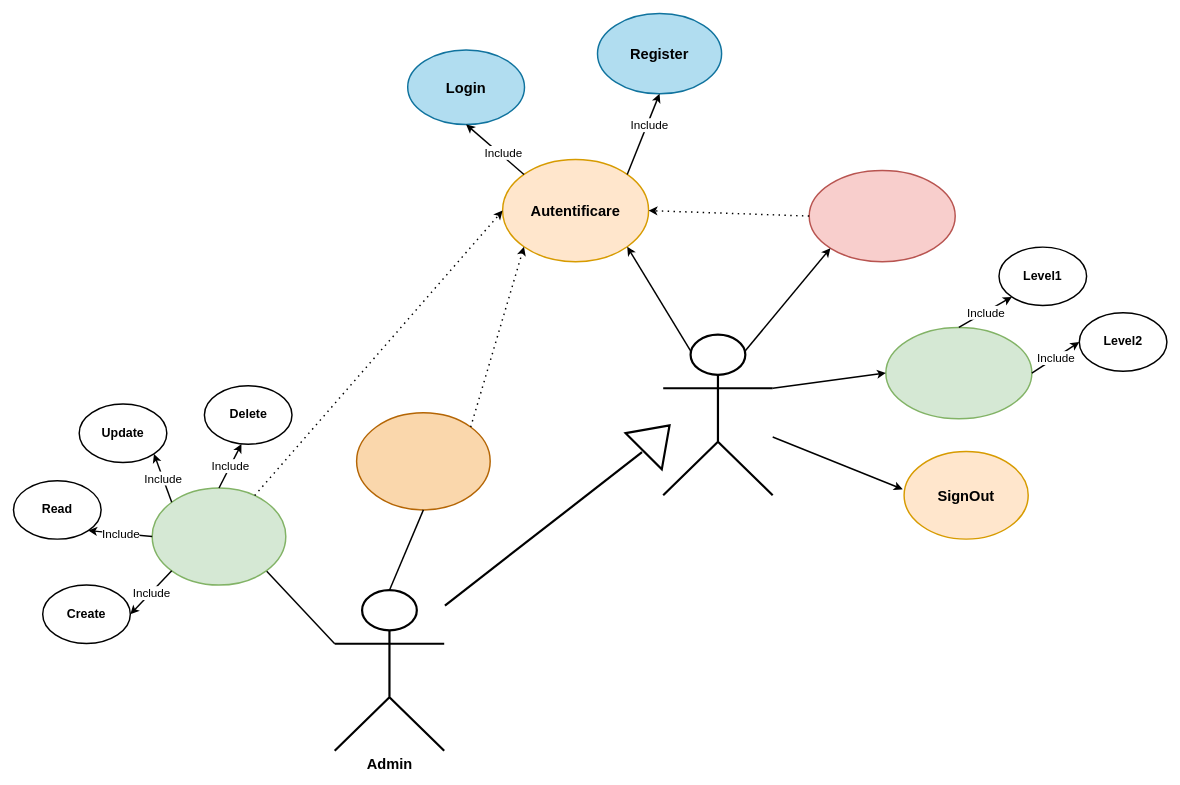
This 1180x785 diagram has some shape labels left out. The box of each missing label's shape, as (x1, y1, x2, y2) in pixels:
CRUD pe jucatori autentificati: (151, 487, 286, 585)
Jucator: (662, 333, 773, 496)
Play: (885, 326, 1032, 419)
View Score: (808, 169, 956, 262)
Vizualizarea tuturor jucatorilor: (356, 412, 491, 510)
